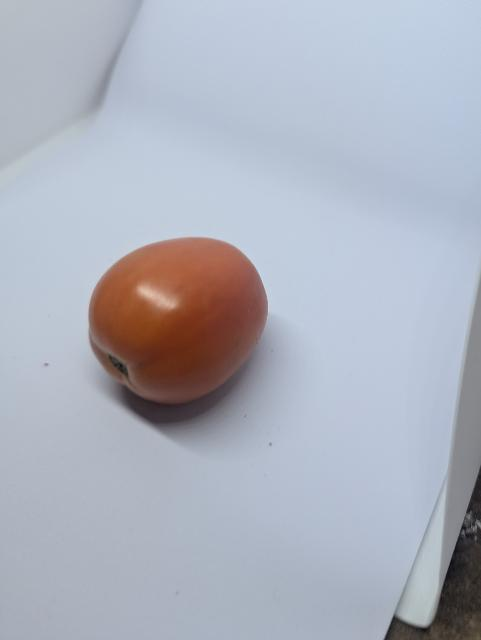red: (75, 224, 281, 417)
